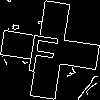F: (25, 25, 62, 75)
